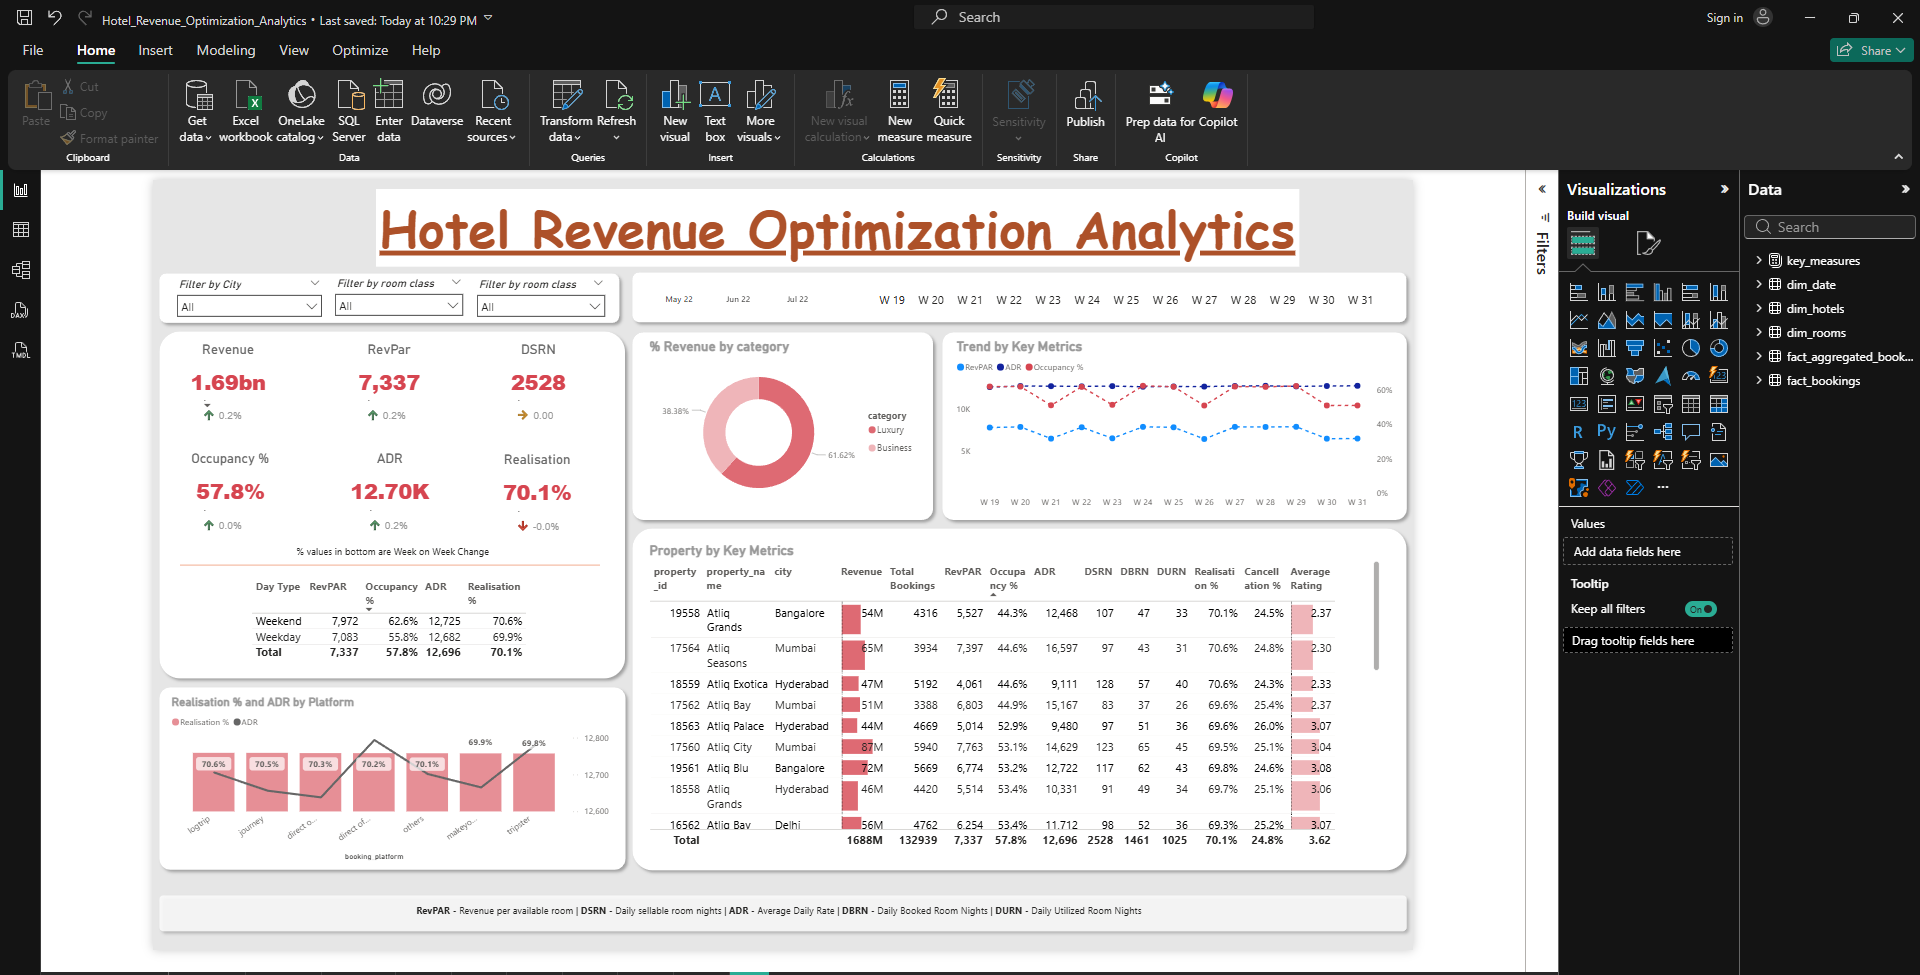

This screenshot's page, from the dashboard's own definition file:
{"tool":"powerbi","page":{"name":"Home","canvas":[1800,1100],"ordinal":0},"visuals":[{"type":"shape","box":[0.2,123.6,675.2,88.8],"z":0},{"type":"shape","box":[676,122.7,1124,89.3],"z":1000},{"type":"shape","box":[676,488,1124,506.7],"z":2000},{"type":"shape","box":[675.1,208.6,447.6,286.1],"z":3000},{"type":"shape","box":[1118.6,208.6,681.7,286.1],"z":4000},{"type":"shape","box":[0.2,207,683.4,513.9],"z":5000},{"type":"slicer","fields":{"Values":["dim_rooms.room_class"]},"box":[250.7,133.3,202.7,72],"z":6000},{"type":"slicer","fields":{"Values":["dim_hotels.city"]},"box":[24,134.7,226.7,76],"z":7000},{"type":"slicer","fields":{"Values":["dim_date.mmm yy"]},"box":[683.6,145.5,302.1,47.8],"z":8000},{"type":"card","title":"Revenue","fields":{"Values":["key_measures.Revenue"]},"box":[30.7,230.7,154.7,95.8],"z":8000,"group":"g2"},{"type":"card","title":"RevPar","fields":{"Values":["key_measures.Rev Par"]},"box":[257.9,230.7,160.2,95.8],"z":9000,"group":"g2"},{"type":"card","title":"Occupancy %","fields":{"Values":["key_measures.Occupancy %"]},"box":[14.7,386.3,192,96],"z":9000,"group":"g1"},{"type":"tableEx","title":"Property by Key Metrics","fields":{"Values":["dim_hotels.property_id","dim_hotels.property_name","dim_hotels.city","key_measures.Revenue","key_measures.Total Bookings","key_measures.Rev Par","key_measures.Occupancy %","key_measures.ADR","key_measures.DSRN","key_measures.DBRN","key_measures.DURN","key_measures.Realisation %"]},"box":[704,517.3,1053.3,445.3],"z":9000},{"type":"lineChart","title":"Trend by Key Metrics","fields":{"Category":["dim_date.mmm yy.Variation.Date Hierarchy.Month","dim_date.week no"],"Y2":["key_measures.Occupancy %"],"Y":["key_measures.Rev Par","key_measures.ADR"]},"box":[1142.7,225.3,633.3,252],"z":10000},{"type":"card","title":"DSRN","fields":{"Values":["key_measures.DSRN"]},"box":[456.5,231.1,189.3,96],"z":11000,"group":"g2"},{"type":"tableEx","fields":{"Values":["dim_date.day type","key_measures.Rev Par","key_measures.Occupancy %","key_measures.ADR","key_measures.Realisation %"]},"box":[135.1,564.9,437.2,129.8],"z":11000},{"type":"card","title":"ADR","fields":{"Values":["key_measures.ADR"]},"box":[241.4,385.9,193.3,96],"z":12000,"group":"g1"},{"type":"shape","box":[0,716,684,278.7],"z":12000},{"type":"card","title":"Realisation","fields":{"Values":["key_measures.Realisation %"]},"box":[452.5,386.8,194.7,96],"z":13000,"group":"g1"},{"type":"lineStackedColumnComboChart","title":"Realisation % and ADR by Platform","fields":{"Category":["fact_bookings.booking_platform"],"Y":["key_measures.Realisation %"],"Y2":["key_measures.ADR"]},"box":[21.3,736,634.7,241.3],"z":13000},{"type":"slicer","fields":{"Values":["dim_date.week no"]},"box":[1002.7,145.3,773.3,48],"z":14000},{"type":"shape","box":[0,1013.3,1800,69.3],"z":15000},{"type":"group","id":"g1","title":"Group 1","box":[14.7,385.9,632.4,96.9],"z":16000},{"type":"slicer","fields":{"Values":["dim_rooms.room_class"]},"box":[453.3,134.7,202.7,72],"z":17000},{"type":"group","id":"g2","title":"Group 2","box":[30.7,230.7,615.1,96.4],"z":18000},{"type":"tableEx","fields":{"Values":["key_measures.Revpar WoW change %"]},"box":[296,297.3,92,58.7],"z":19000},{"type":"textbox","box":[345,1029.6,1093.6,39],"z":20000},{"type":"shape","box":[38.7,542.7,600,14.7],"z":21000},{"type":"tableEx","fields":{"Values":["key_measures.Revenue WoW change %"]},"box":[60.8,296.8,95.8,59],"z":22000},{"type":"tableEx","fields":{"Values":["key_measures.DSRN WoW change %"]},"box":[509.3,297.3,92,58.7],"z":23000},{"type":"donutChart","title":"% Revenue by category","fields":{"Category":["dim_hotels.category"],"Y":["key_measures.Revenue"]},"box":[704,225.3,396,248],"z":24000},{"type":"group","id":"g3","title":"Group 3","box":[61.3,454.3,540,60],"z":25000},{"type":"textbox","box":[200,517.3,308,33.3],"z":26000},{"type":"textbox","box":[318.6,12.9,1318.6,111.4],"z":27000},{"type":"tableEx","fields":{"Values":["key_measures.Occupancy WoW change %"]},"box":[61.3,454.3,92,58.7],"z":27000,"group":"g3"},{"type":"tableEx","fields":{"Values":["key_measures.ADR WoW change %"]},"box":[298.6,454.3,92,58.7],"z":28000,"group":"g3"},{"type":"tableEx","fields":{"Values":["key_measures.Realisation WoW change %"]},"box":[509.3,455.6,92,58.7],"z":29000,"group":"g3"}]}

Visuals, with their boxes in screenshot pixels (x1, y1, x2, y2):
shape: {"left": 35, "top": 164, "right": 604, "bottom": 239}
shape: {"left": 605, "top": 163, "right": 1553, "bottom": 239}
shape: {"left": 605, "top": 471, "right": 1553, "bottom": 899}
shape: {"left": 604, "top": 236, "right": 982, "bottom": 477}
shape: {"left": 978, "top": 236, "right": 1553, "bottom": 477}
shape: {"left": 35, "top": 235, "right": 611, "bottom": 668}
slicer - dim_rooms.room_class: {"left": 246, "top": 172, "right": 417, "bottom": 233}
slicer - dim_hotels.city: {"left": 55, "top": 174, "right": 246, "bottom": 238}
slicer - dim_date.mmm yy: {"left": 611, "top": 183, "right": 866, "bottom": 223}
"Revenue" card: {"left": 61, "top": 255, "right": 191, "bottom": 335}
"RevPar" card: {"left": 252, "top": 255, "right": 388, "bottom": 335}
"Occupancy %" card: {"left": 47, "top": 386, "right": 209, "bottom": 467}
"Property by Key Metrics" tableEx: {"left": 629, "top": 496, "right": 1517, "bottom": 872}
"Trend by Key Metrics" lineChart: {"left": 998, "top": 250, "right": 1532, "bottom": 462}
"DSRN" card: {"left": 420, "top": 255, "right": 579, "bottom": 336}
tableEx - dim_date.day type x key_measures.Rev Par: {"left": 149, "top": 536, "right": 518, "bottom": 646}
"ADR" card: {"left": 239, "top": 385, "right": 402, "bottom": 466}
shape: {"left": 35, "top": 664, "right": 612, "bottom": 899}
"Realisation" card: {"left": 417, "top": 386, "right": 581, "bottom": 467}
"Realisation % and ADR by Platform" lineStackedColumnComboChart: {"left": 53, "top": 681, "right": 588, "bottom": 884}
slicer - dim_date.week no: {"left": 880, "top": 183, "right": 1532, "bottom": 223}
shape: {"left": 35, "top": 914, "right": 1553, "bottom": 973}
"Group 1" group: {"left": 47, "top": 385, "right": 581, "bottom": 467}
slicer - dim_rooms.room_class: {"left": 417, "top": 174, "right": 588, "bottom": 234}
"Group 2" group: {"left": 61, "top": 255, "right": 579, "bottom": 336}
tableEx - key_measures.Revpar WoW change %: {"left": 285, "top": 311, "right": 362, "bottom": 360}
textbox: {"left": 326, "top": 928, "right": 1248, "bottom": 961}
shape: {"left": 68, "top": 518, "right": 574, "bottom": 530}
tableEx - key_measures.Revenue WoW change %: {"left": 86, "top": 310, "right": 167, "bottom": 360}
tableEx - key_measures.DSRN WoW change %: {"left": 464, "top": 311, "right": 542, "bottom": 360}
"% Revenue by category" donutChart: {"left": 629, "top": 250, "right": 962, "bottom": 459}
"Group 3" group: {"left": 87, "top": 443, "right": 542, "bottom": 494}
textbox: {"left": 204, "top": 496, "right": 463, "bottom": 524}
textbox: {"left": 304, "top": 71, "right": 1415, "bottom": 165}
tableEx - key_measures.Occupancy WoW change %: {"left": 87, "top": 443, "right": 164, "bottom": 493}
tableEx - key_measures.ADR WoW change %: {"left": 287, "top": 443, "right": 364, "bottom": 493}
tableEx - key_measures.Realisation WoW change %: {"left": 464, "top": 444, "right": 542, "bottom": 494}
